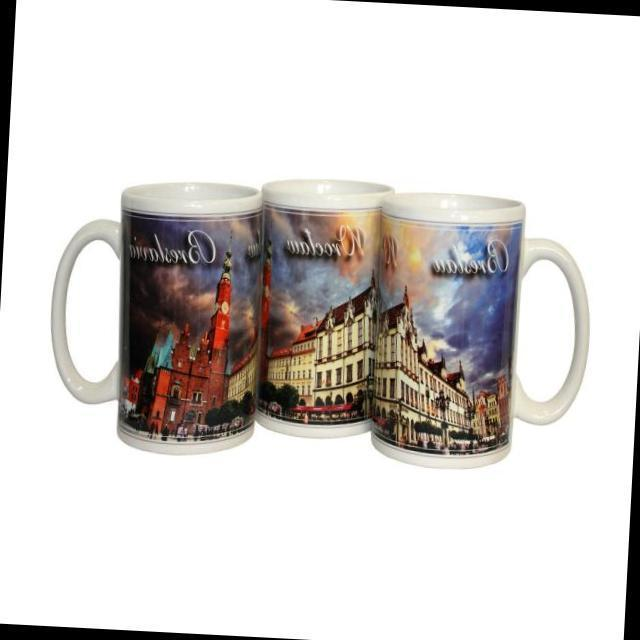taza: (372, 190, 594, 472), (44, 174, 266, 454), (250, 174, 394, 439)
